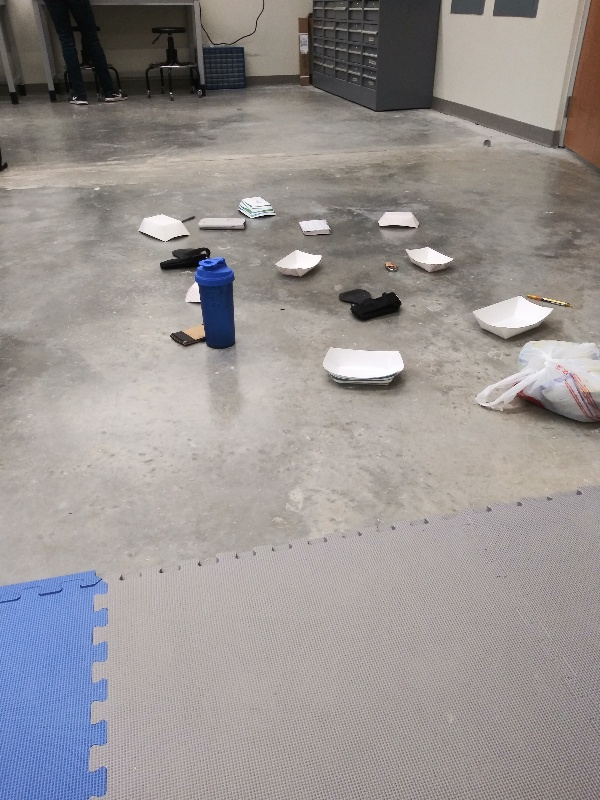plate: (467, 290, 558, 344), (319, 341, 409, 392), (133, 212, 196, 244), (271, 246, 324, 281), (402, 243, 458, 276), (234, 194, 282, 221), (375, 208, 423, 235), (180, 277, 201, 308)
